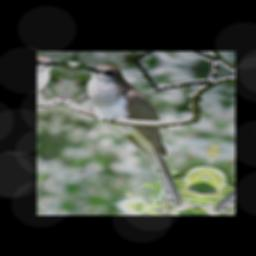Cuckoo: (50, 61, 219, 209)
